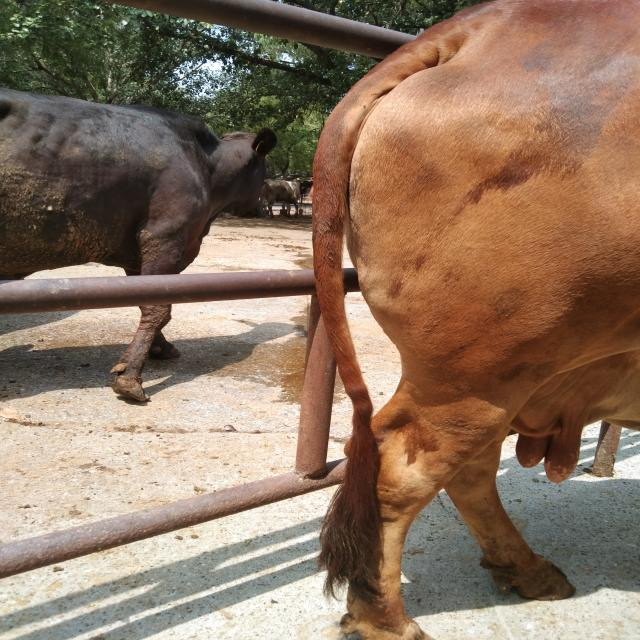Hoof: (112, 374, 149, 402)
